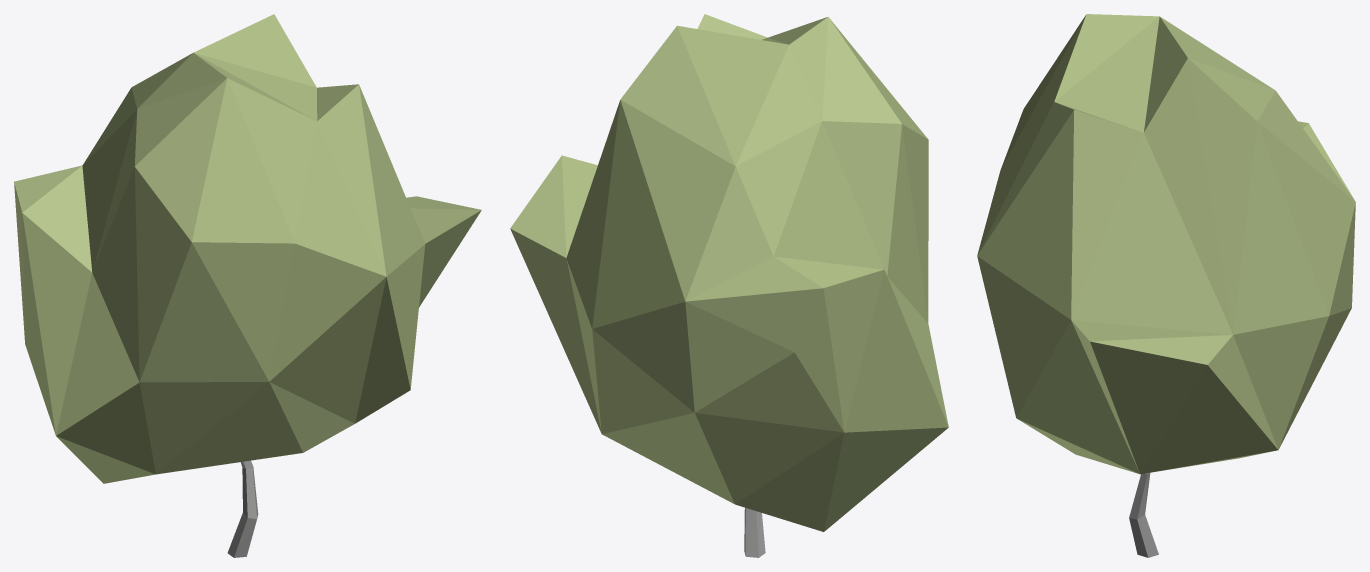
The model's file is AcerPlatanoides.glb.
3 views of the same model, side by side, from view 1: azimuth 30°, elevation 25°; view 2: azimuth 150°, elevation 25°; view 3: azimuth 270°, elevation 25° (orthographic). The views are drawn at different scales.
Parts seen in each view (by area): view 1: Crown, Trunk; view 2: Crown, Trunk; view 3: Crown, Trunk.
Part boxes in pixels (x1=…): Crown: x1=14, y1=14, x2=481, y2=483; Trunk: x1=227, y1=460, x2=258, y2=557; Crown: x1=510, y1=14, x2=948, y2=531; Trunk: x1=744, y1=507, x2=765, y2=557; Crown: x1=977, y1=14, x2=1355, y2=474; Trunk: x1=1129, y1=473, x2=1158, y2=557.
Bounding box in the file's own units: 16.65 × 20.34 × 13.36.
